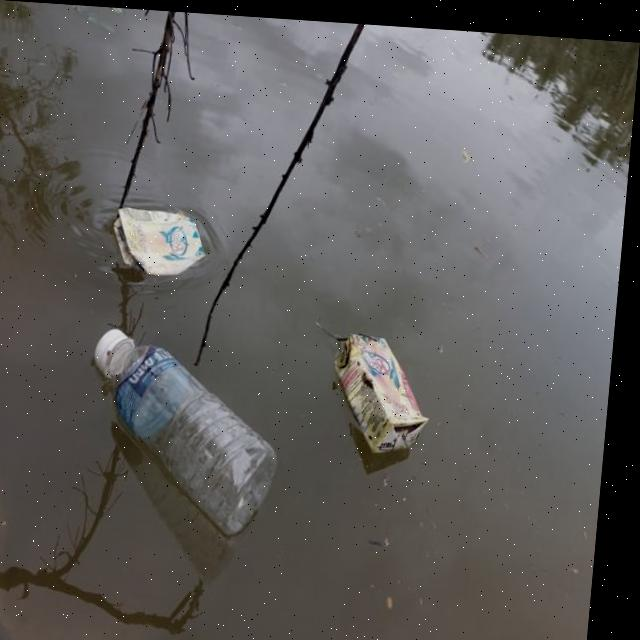paper: (49, 182, 232, 299), (334, 302, 446, 457)
waterbottle: (78, 324, 288, 538)
